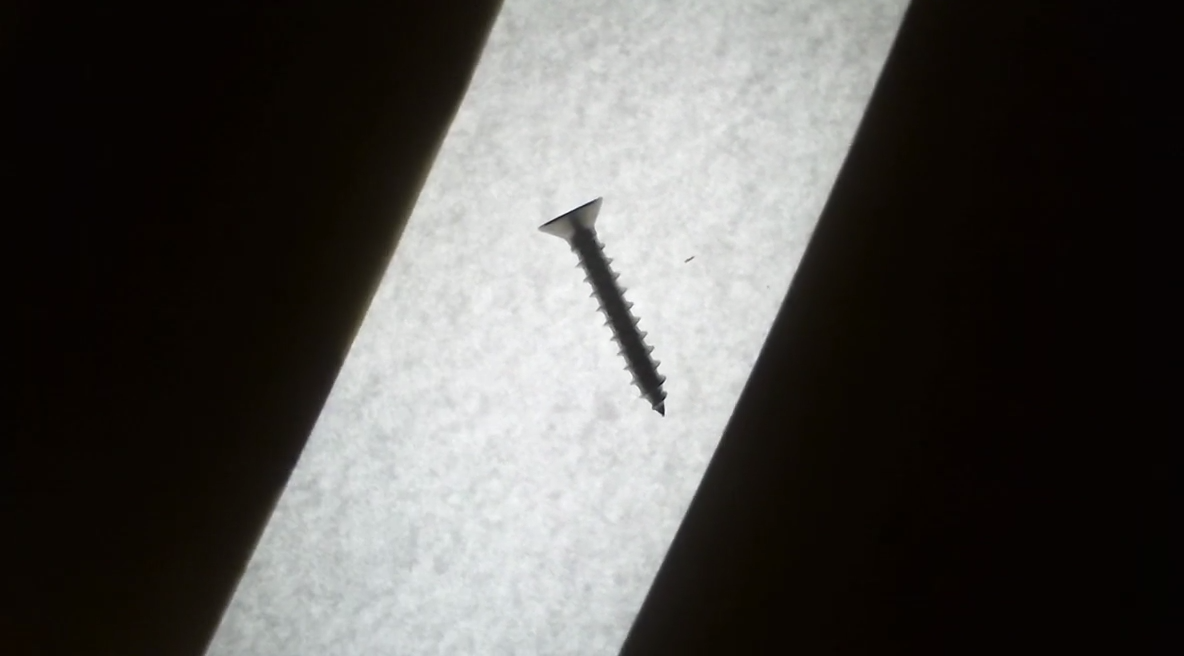S001: (520, 184, 696, 426)
